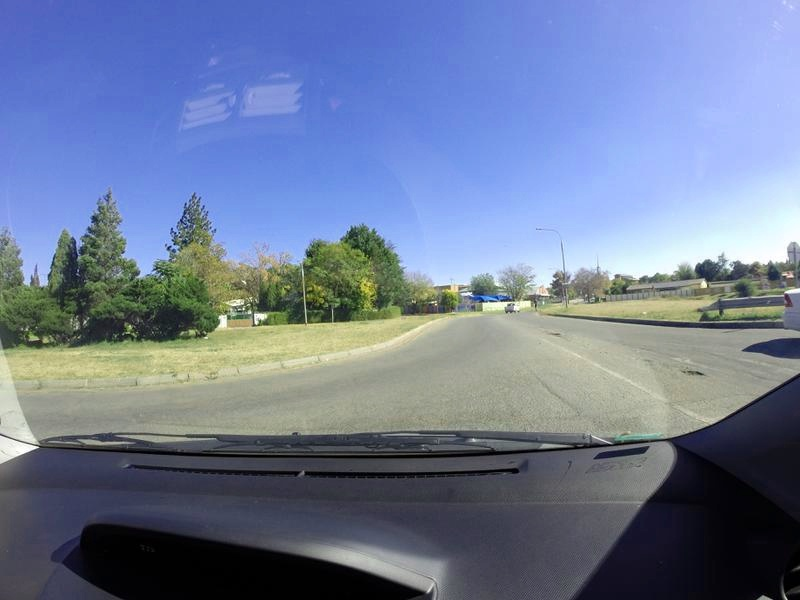pothole: (542, 325, 569, 343), (680, 365, 708, 378)
